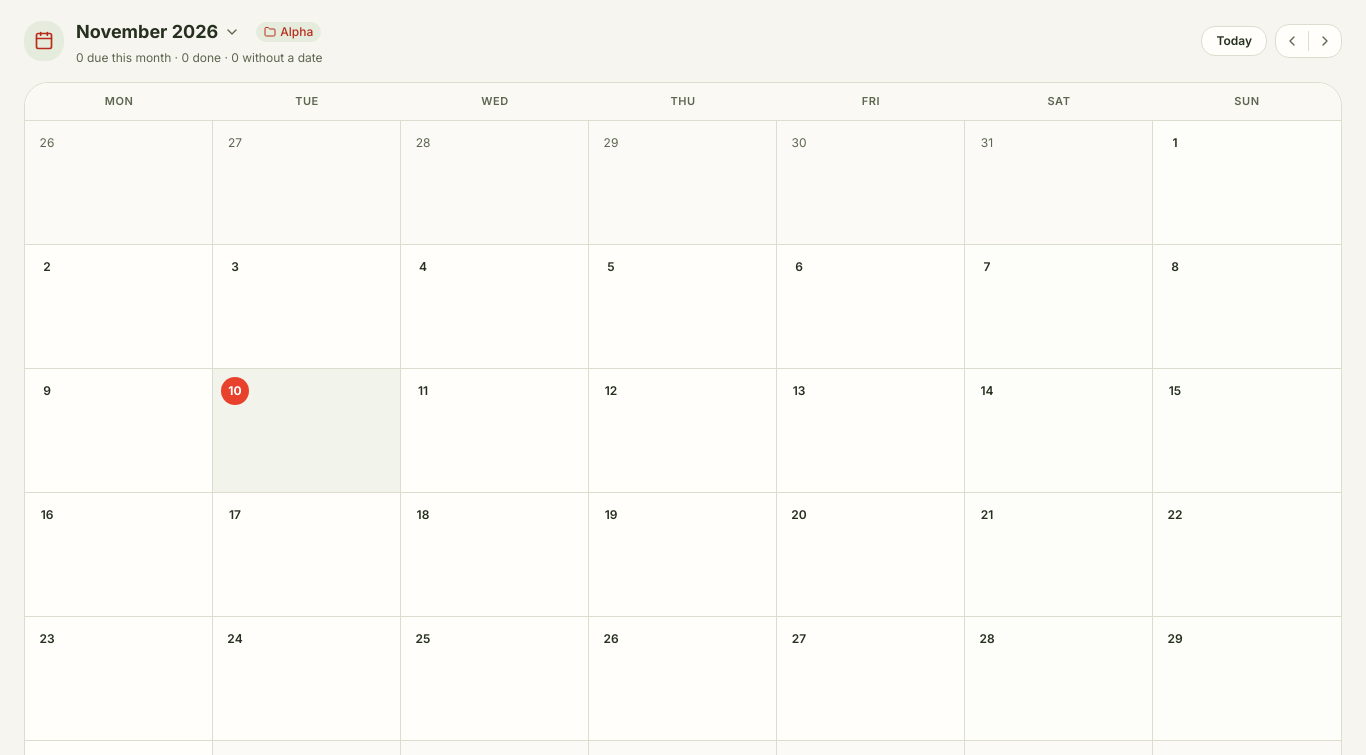
Scenario: CalendarView › header › opens the month and year chooser, jumps to a month and closes
Click the button with test id "calendar-month-year": (158, 32) [68, 16, 248, 48]
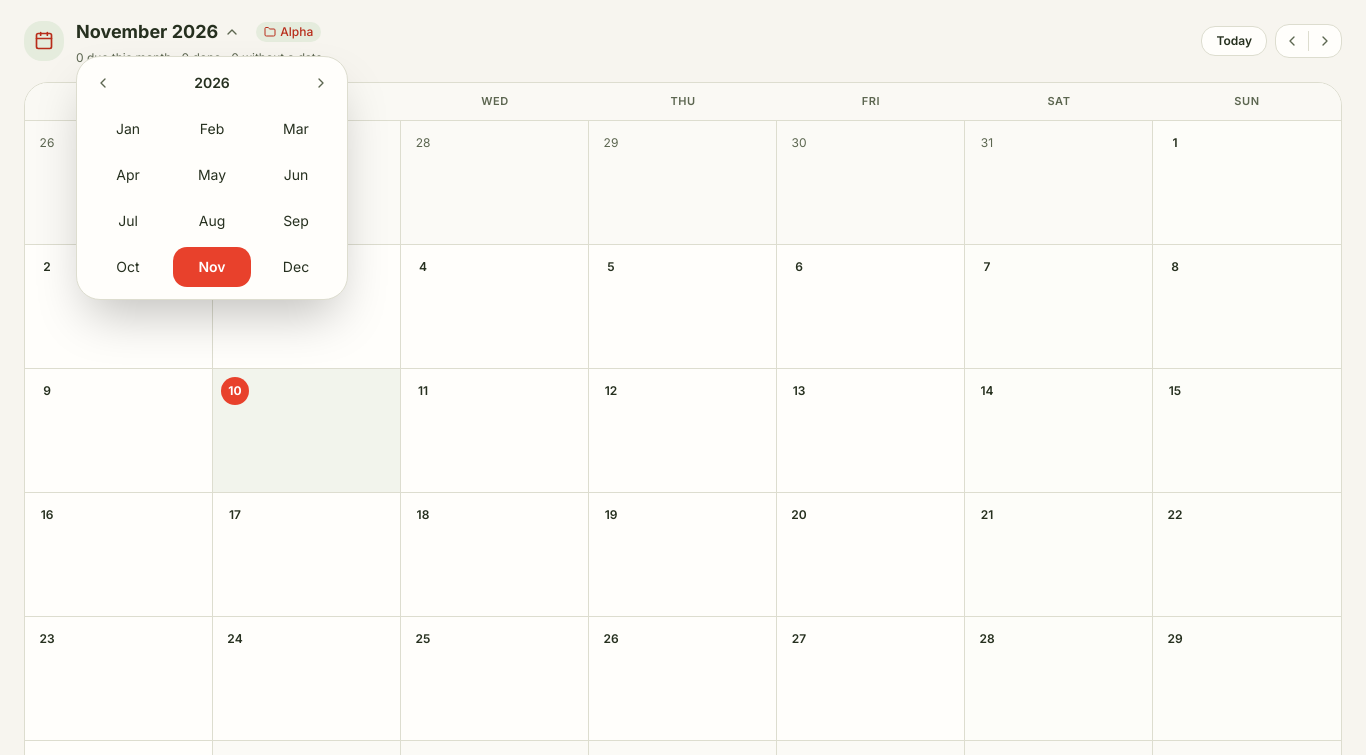
Expected: the button with test id "calendar-month-year" is expanded, [68, 16, 248, 48]
Click the button "Mar": (296, 129) [257, 109, 335, 149]
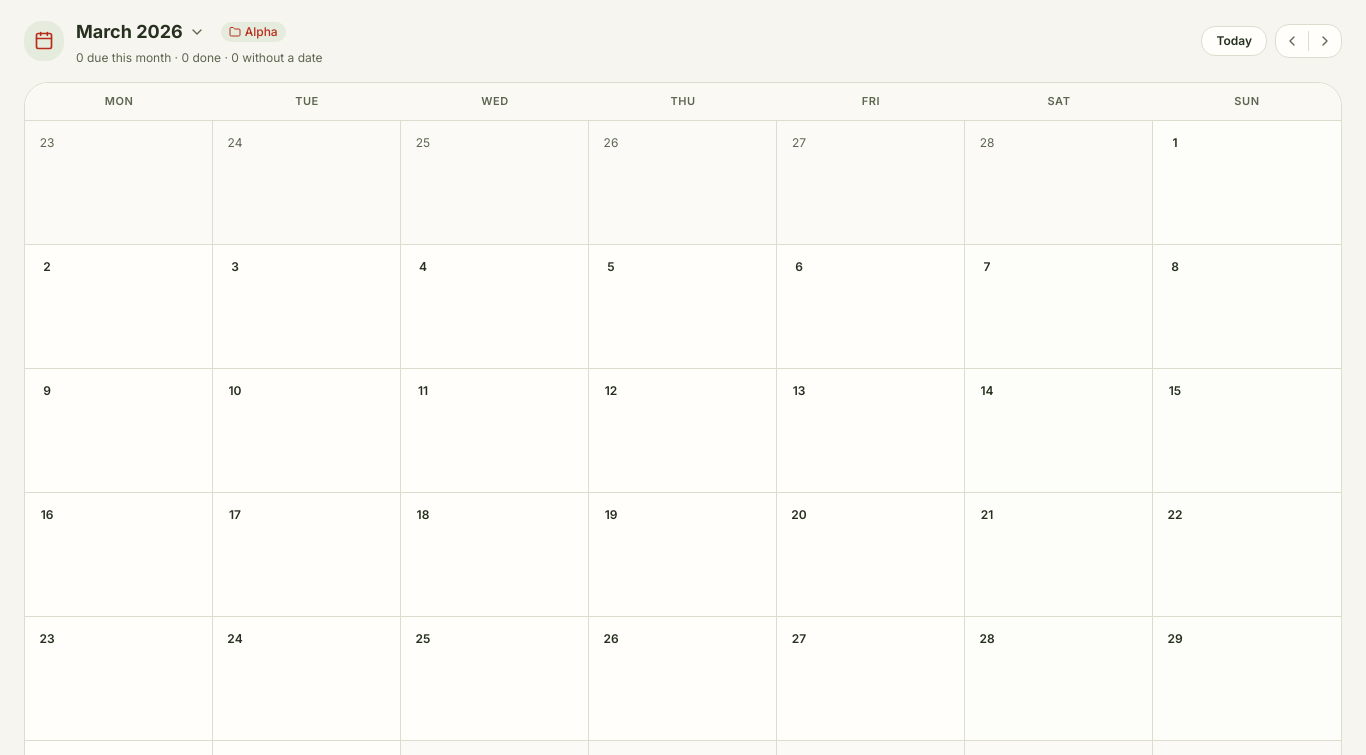
Expected: the button "March 2026" is shown, [68, 16, 213, 48]
Expected: the button "March 2026" is collapsed, [68, 16, 213, 48]
